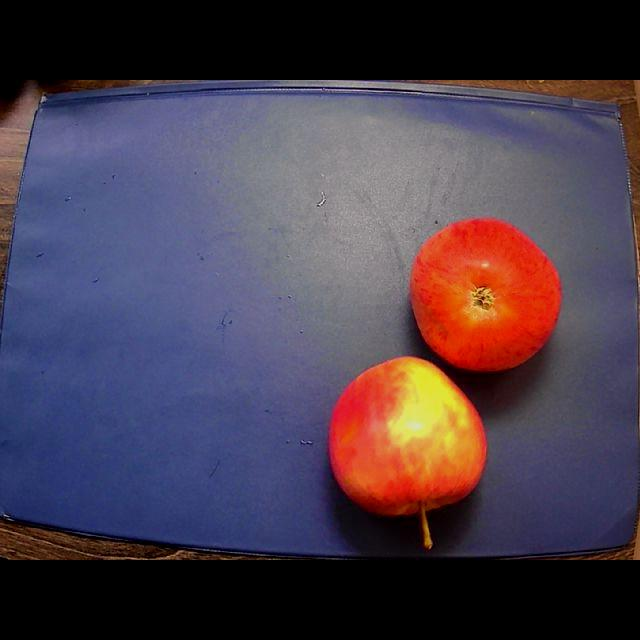manzana: (330, 357, 487, 549), (410, 218, 561, 371)
